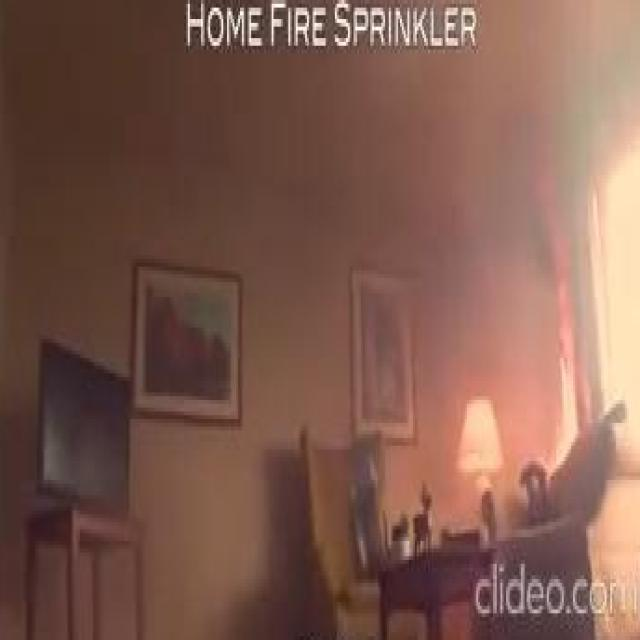smoke: (530, 228, 580, 481)
